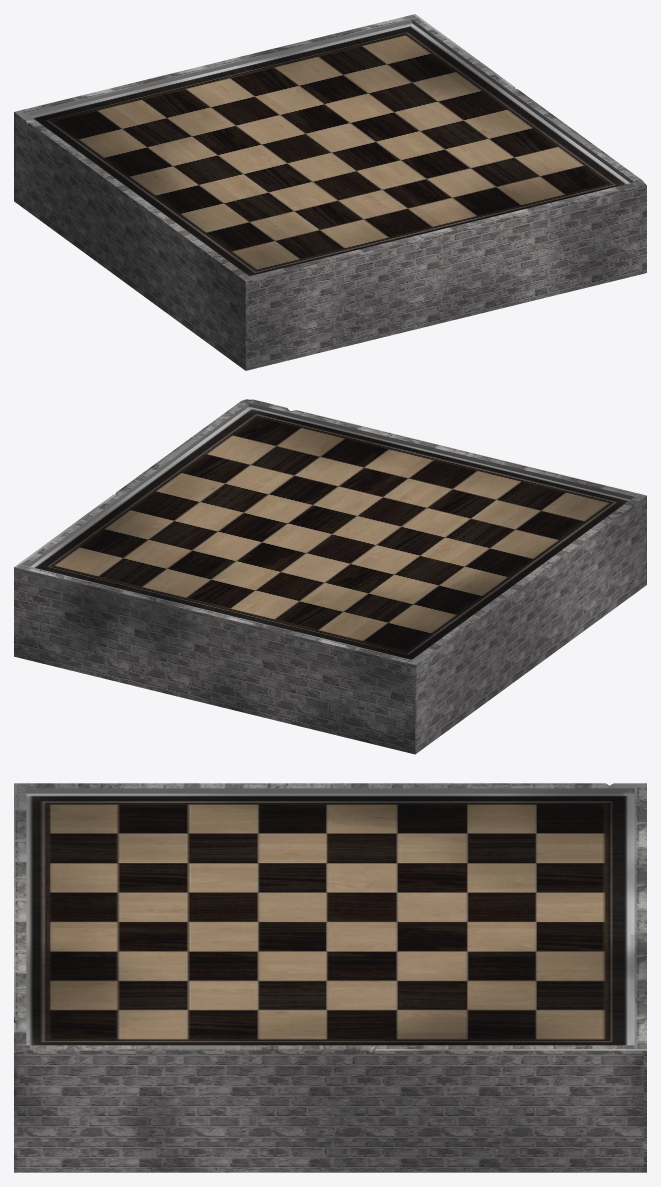
The model's file is chessBoard.glb.
The picture shows the model from 3 angles, top to bottom: view 1: azimuth 30°, elevation 25°; view 2: azimuth 150°, elevation 25°; view 3: azimuth 270°, elevation 25°; orthographic projection. The views are drawn at different scales.
Parts seen in each view (by area): view 1: Cube; view 2: Cube; view 3: Cube.
Part boxes in pixels (left/top/right/bottom): Cube: left=14, top=14, right=646, bottom=370; Cube: left=14, top=399, right=646, bottom=754; Cube: left=14, top=783, right=646, bottom=1172.
Bounding box in the file's own units: 27.18 × 5.78 × 27.16.
Materials: 1 (1 with a texture image).
